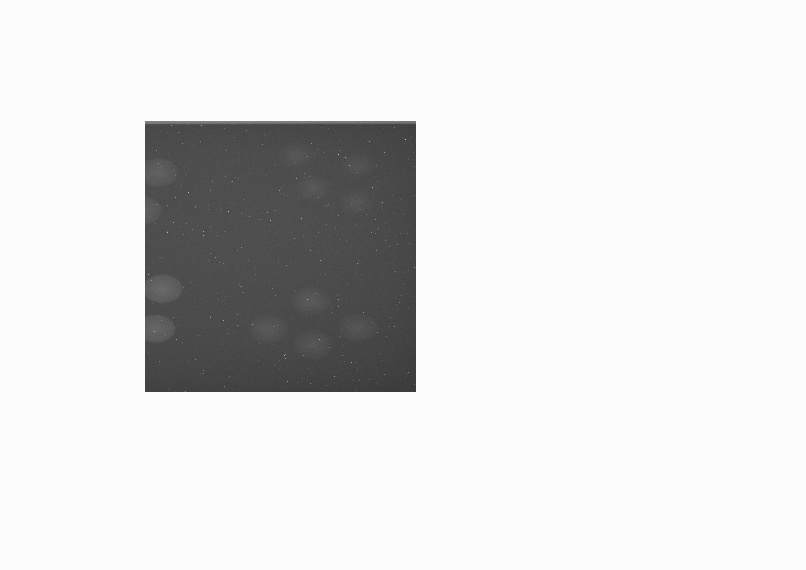cluster: (250, 288, 378, 357), (284, 141, 375, 213), (145, 273, 182, 344), (145, 155, 180, 224)
